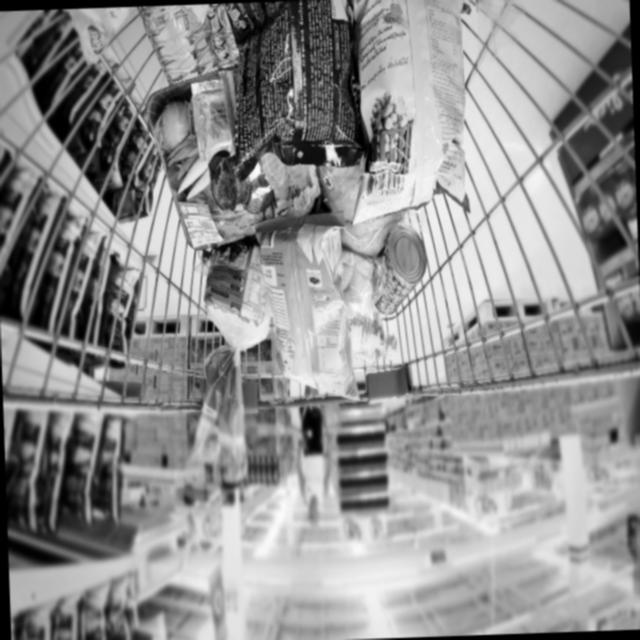banh mi: (188, 244, 274, 436)
dau: (346, 315, 400, 372)
